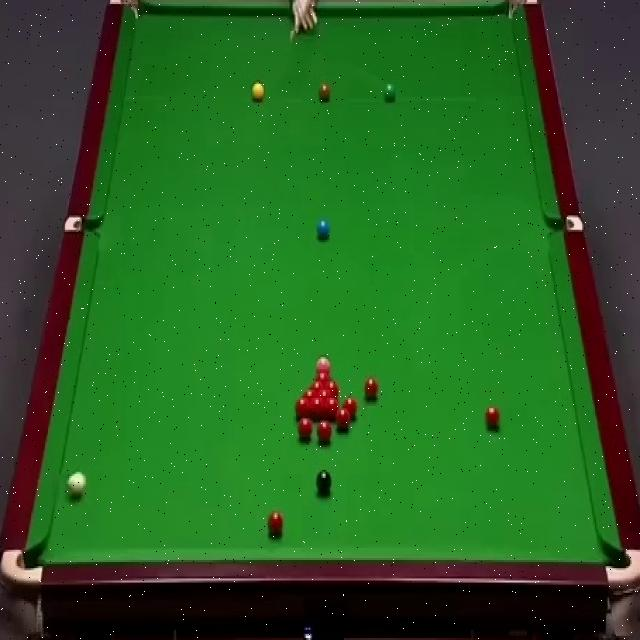black-ball: (316, 470, 333, 496)
blue-ball: (316, 220, 330, 240)
brown-ball: (318, 83, 331, 102)
green-ball: (383, 82, 396, 103)
pink-ball: (316, 355, 330, 368)
red-ball: (484, 403, 501, 432), (267, 510, 283, 535), (316, 419, 332, 444), (342, 396, 357, 420), (364, 376, 379, 400), (297, 419, 313, 441), (294, 397, 309, 419), (325, 398, 340, 420), (336, 409, 350, 431), (310, 396, 324, 418), (326, 379, 339, 396), (313, 368, 331, 379), (302, 389, 317, 398), (309, 380, 324, 389), (316, 389, 332, 397)
white-ball: (66, 470, 87, 499)
yellow-ball: (251, 82, 264, 101)
